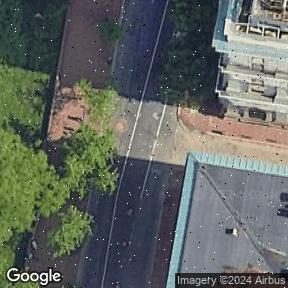vegetation: (0, 0, 115, 288), (94, 15, 124, 45)
